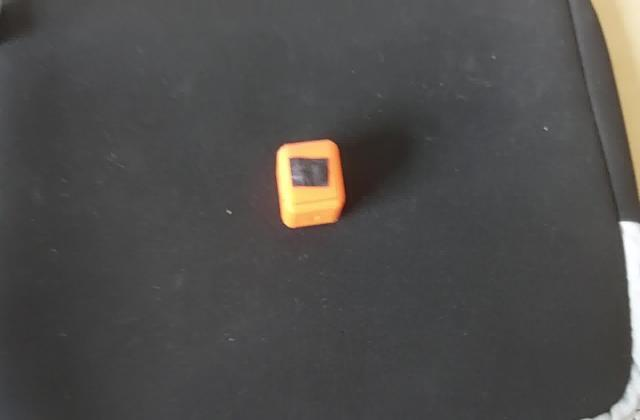black: (286, 152, 333, 190)
sticker: (272, 134, 350, 234)
